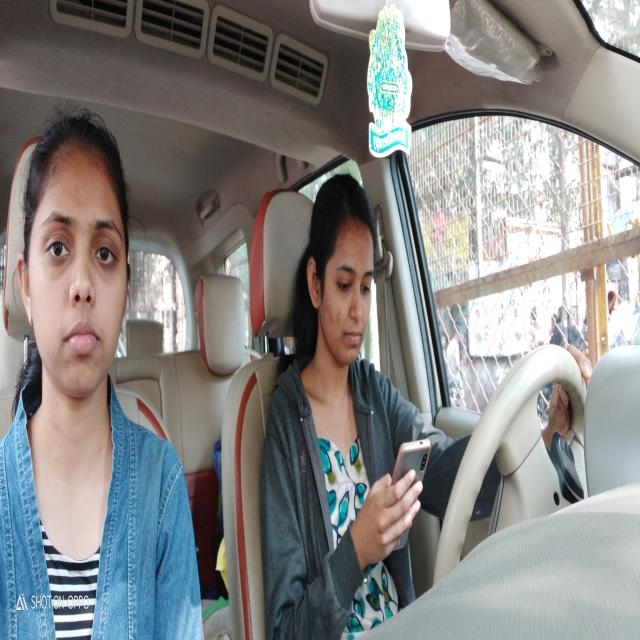mobile: (396, 432, 433, 506)
person: (19, 103, 134, 400), (308, 181, 375, 369)
